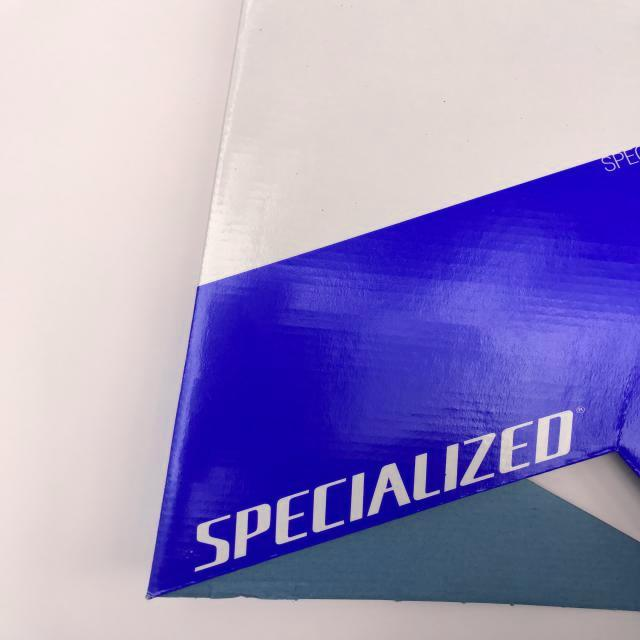cardboard: (140, 0, 640, 621)
